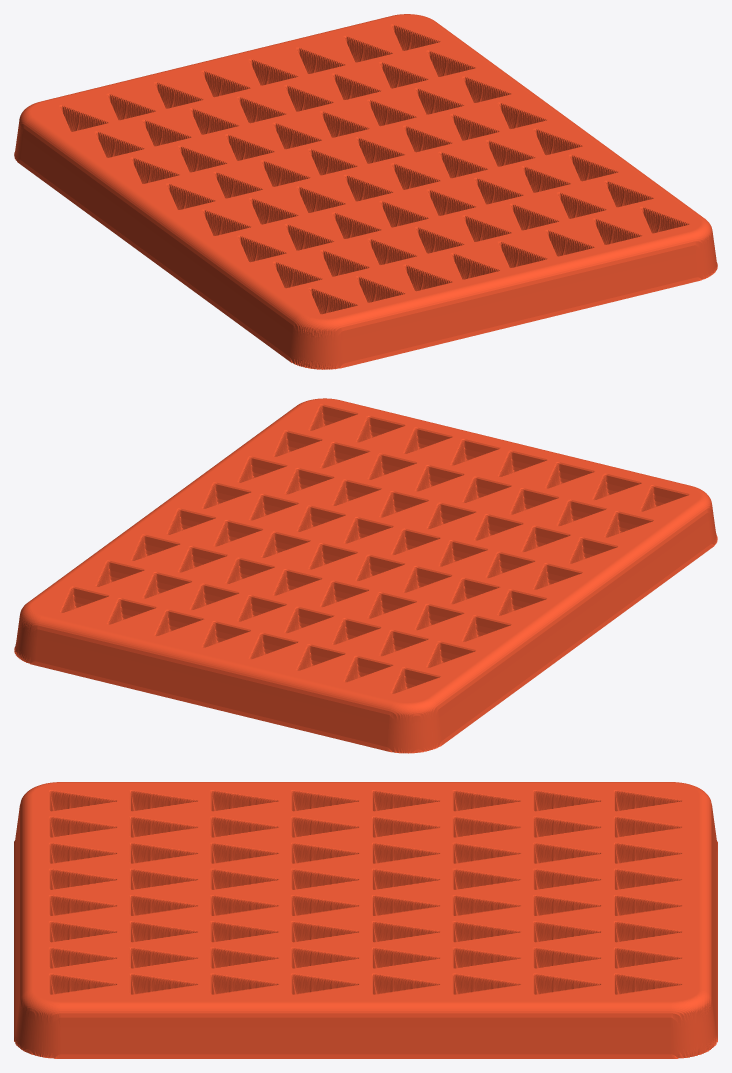
The model's file is mold.glb.
3 renders of one model, top to bottom at view 1: azimuth 30°, elevation 25°; view 2: azimuth 150°, elevation 25°; view 3: azimuth 270°, elevation 25°, orthographic. The views are drawn at different scales.
Visible parts, largest first — view 1: geometry_0; view 2: geometry_0; view 3: geometry_0.
Boxes of the visible parts, left/top/right/bottom form: geometry_0: left=14, top=14, right=717, bottom=369; geometry_0: left=14, top=398, right=717, bottom=753; geometry_0: left=14, top=782, right=717, bottom=1058.
Size of the model in its own units: 0.1067 by 0.0105 by 0.1355.
